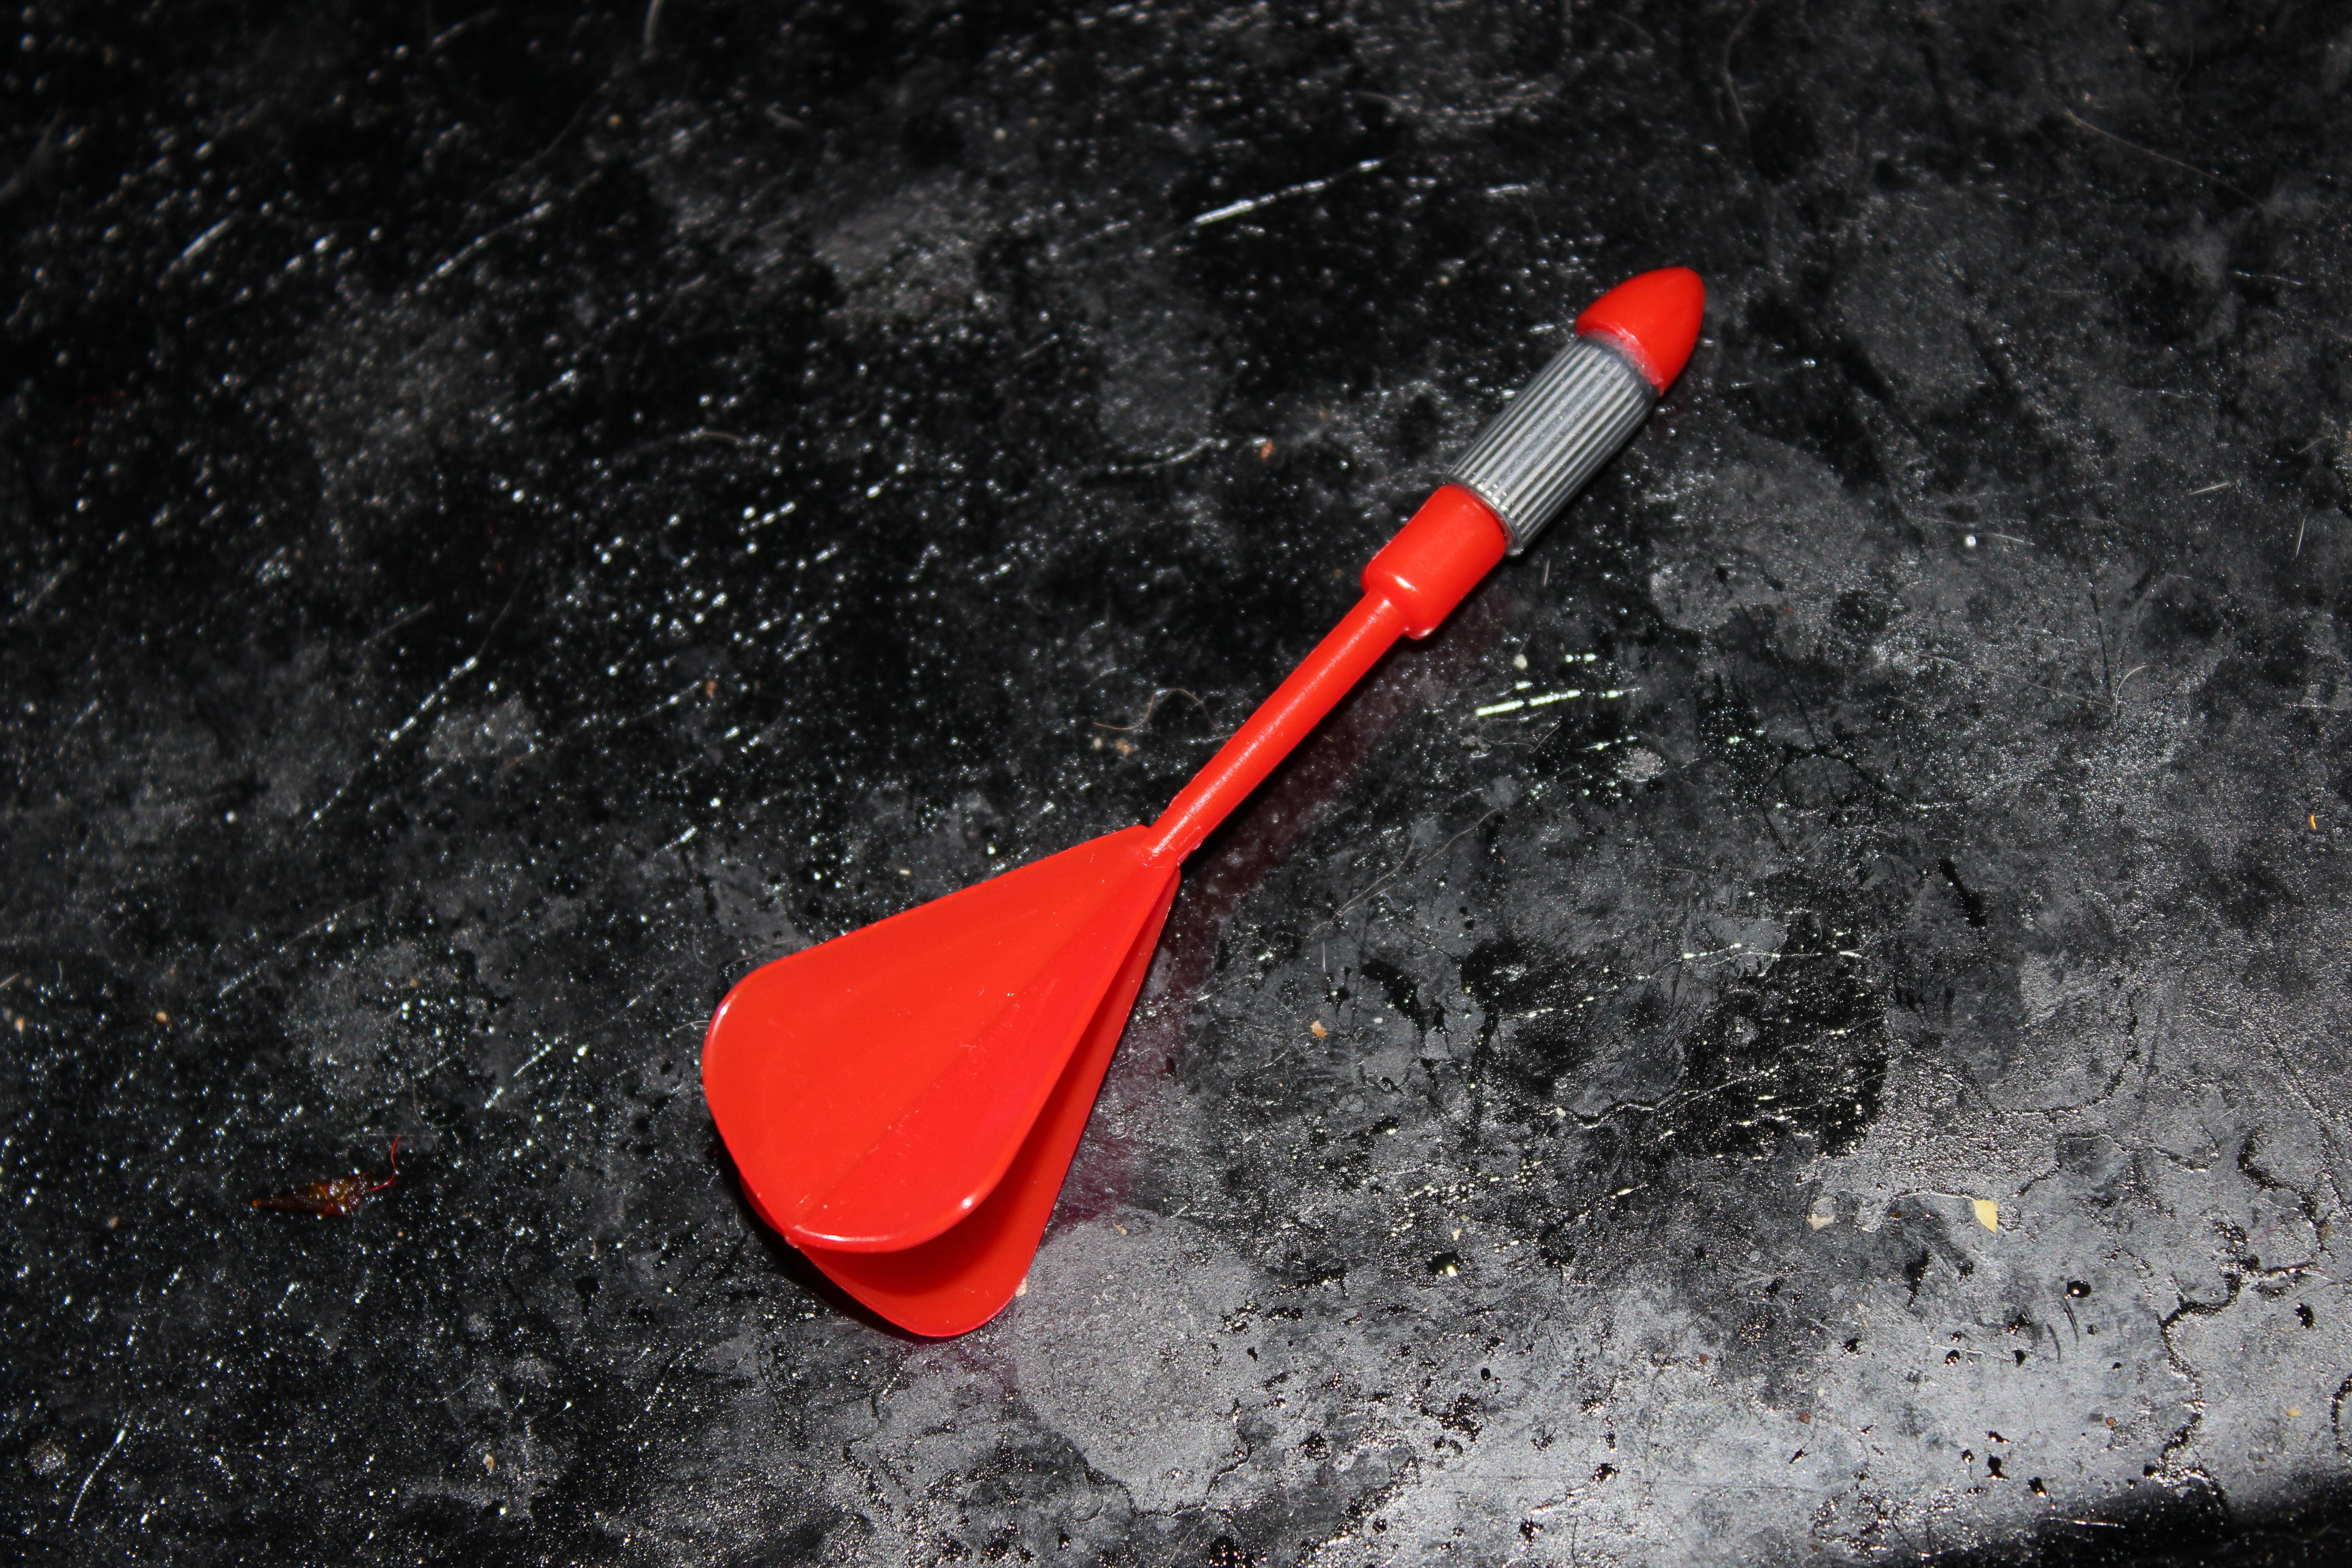redDart: (663, 229, 1760, 1374)
